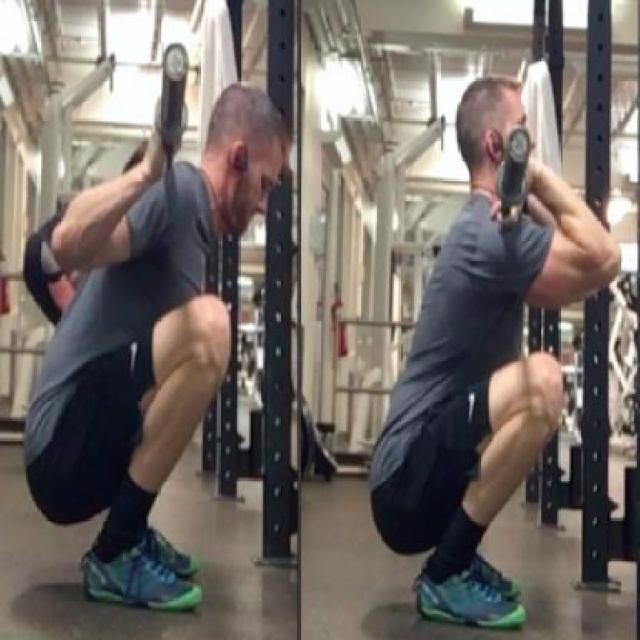barbell: (153, 37, 192, 144), (489, 125, 535, 212)
